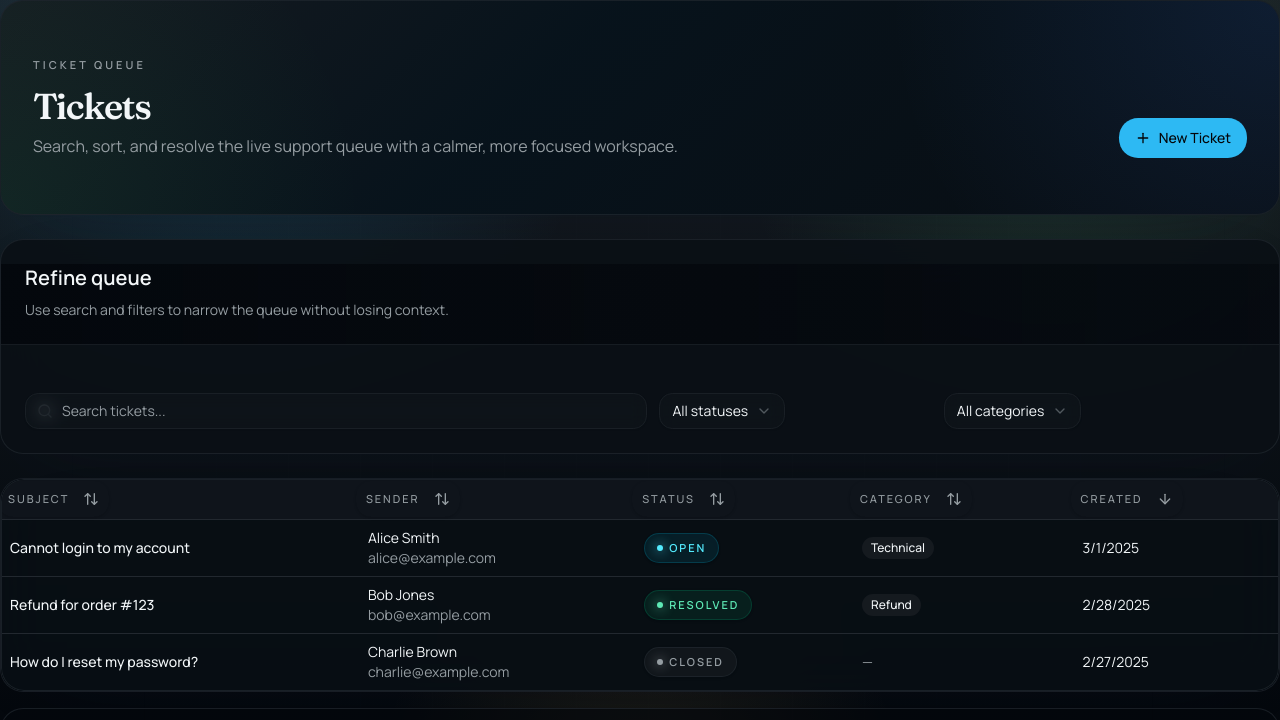
Scenario: TicketsPage › should create a ticket from the dialog
Click the button "New Ticket" at (1183, 138), box [1119, 118, 1247, 158]
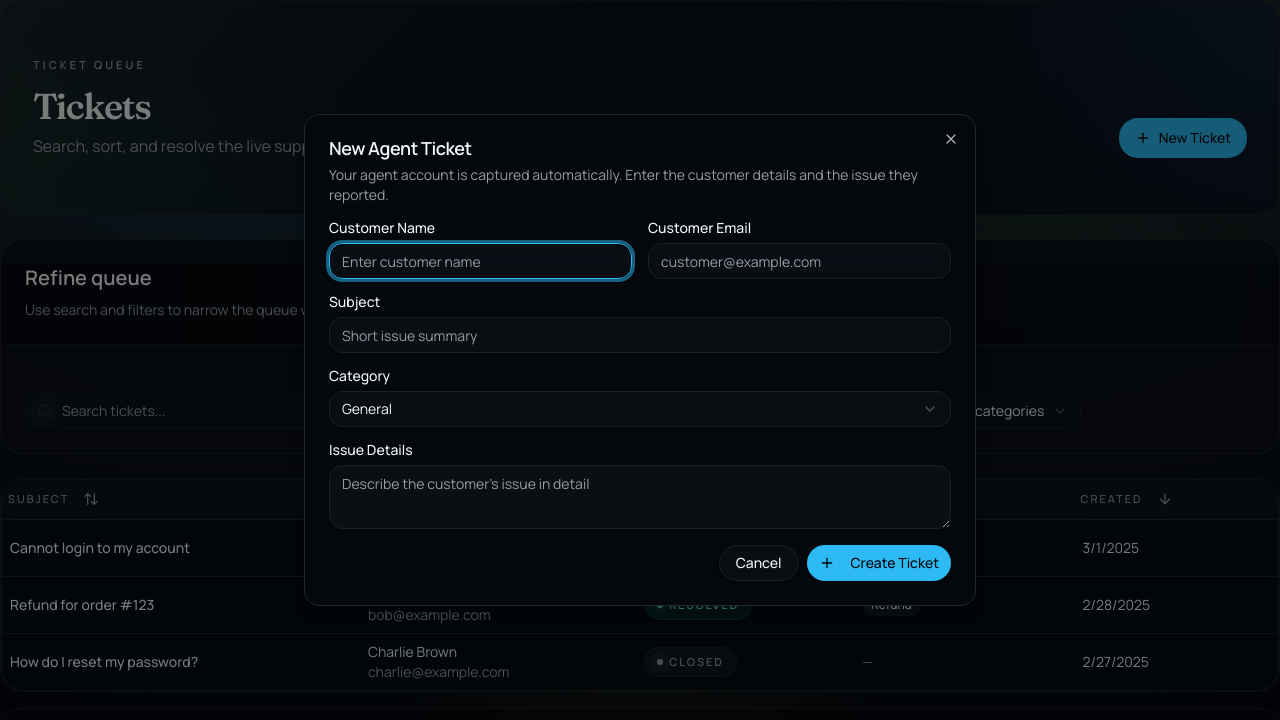
Type "Jane Doe" into the field labelled "Customer Name" at (480, 261), box [329, 243, 632, 279]
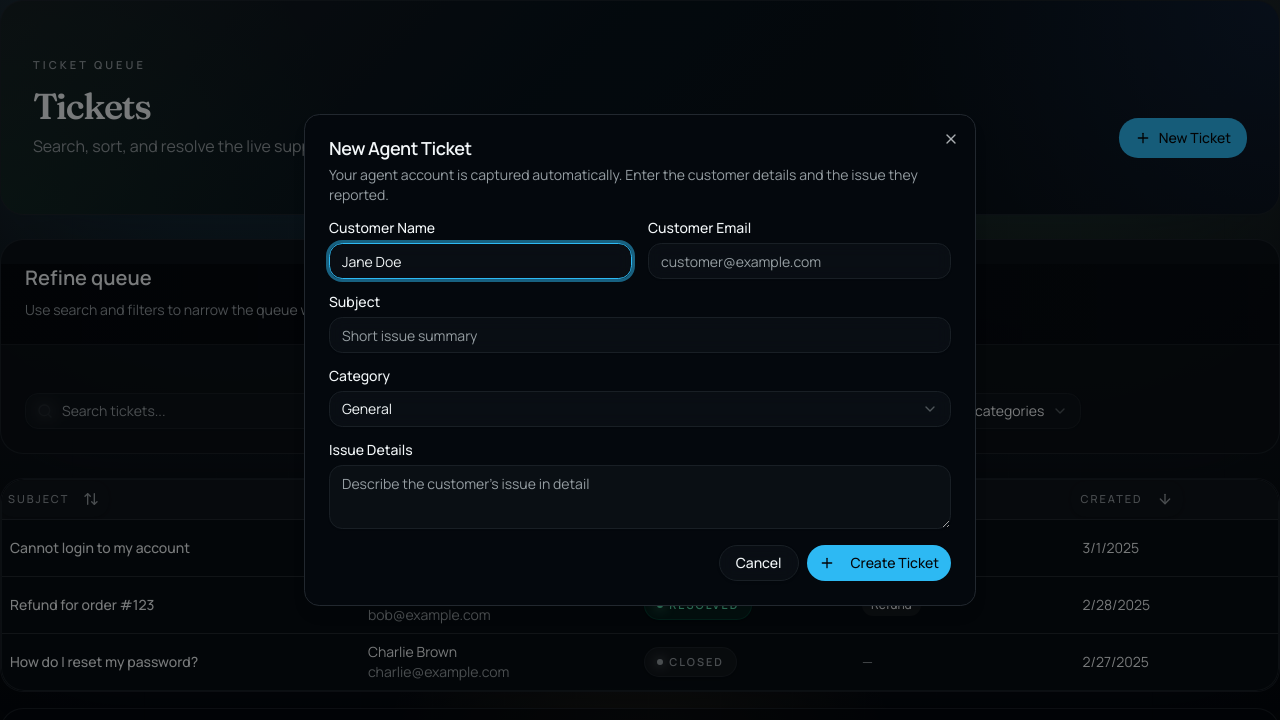
Type "jane@example.com" into the field labelled "Customer Email" at (800, 261), box [648, 243, 951, 279]
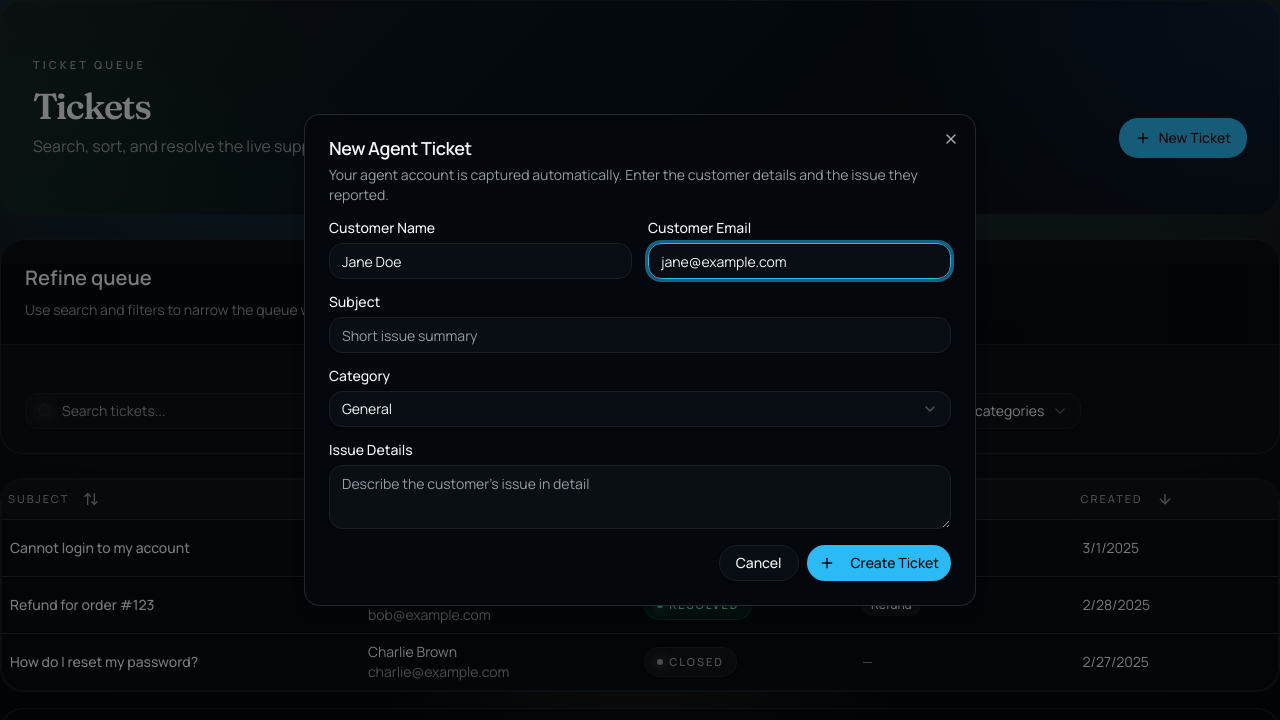
Type "Printer issue" into the field labelled "Subject" at (640, 335), box [329, 317, 951, 353]
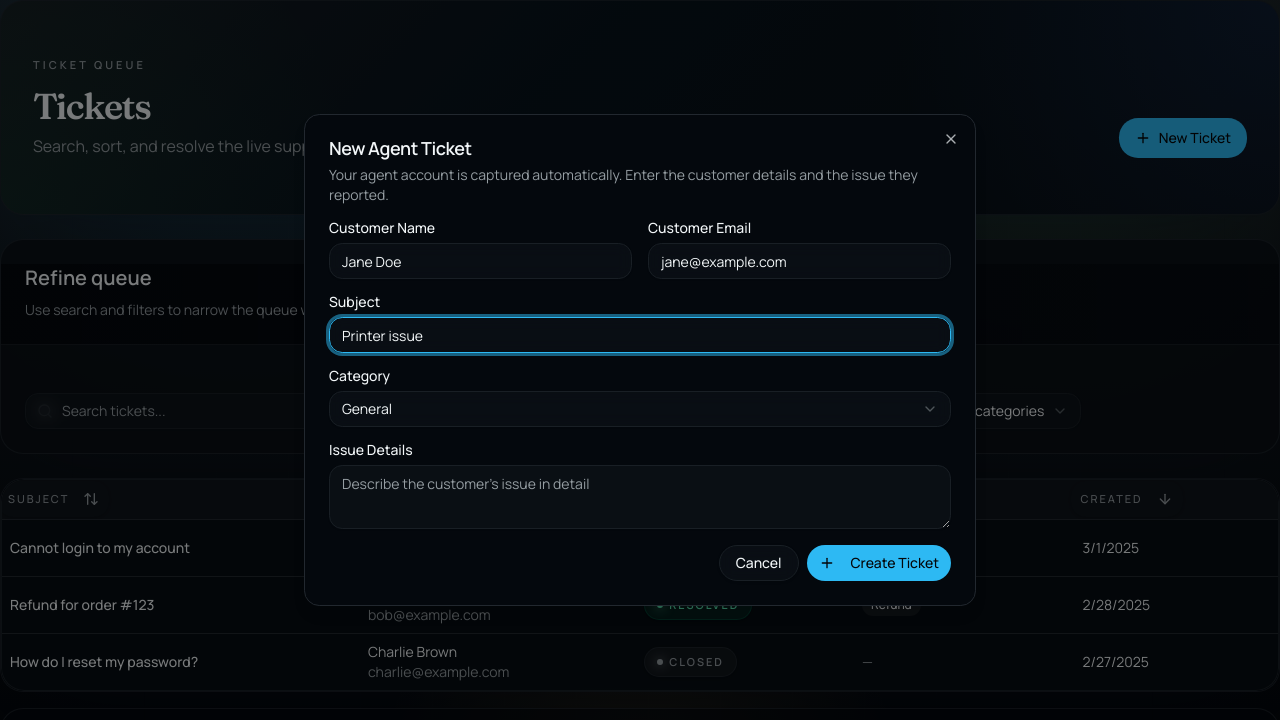
Type "The printer is jammed." into the text box labelled "Issue Details" at (640, 497), box [329, 465, 951, 529]
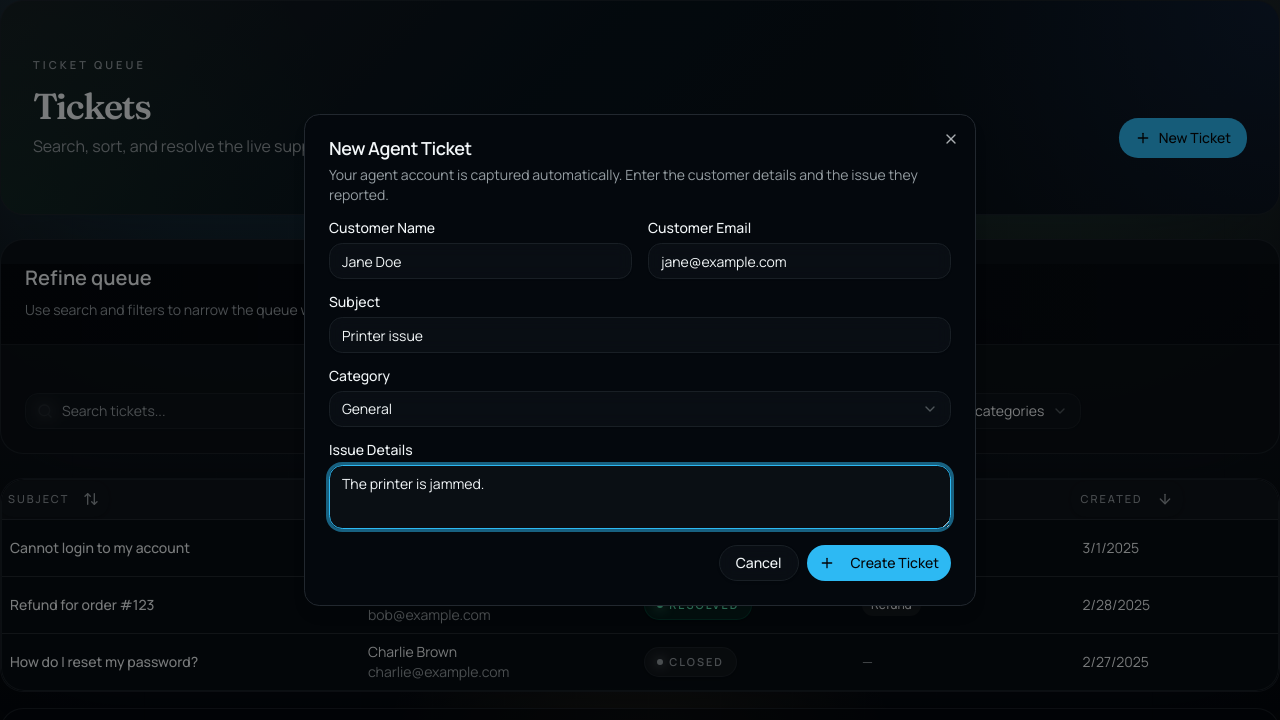
Click the button "Create Ticket" at (879, 563), box [806, 545, 951, 581]
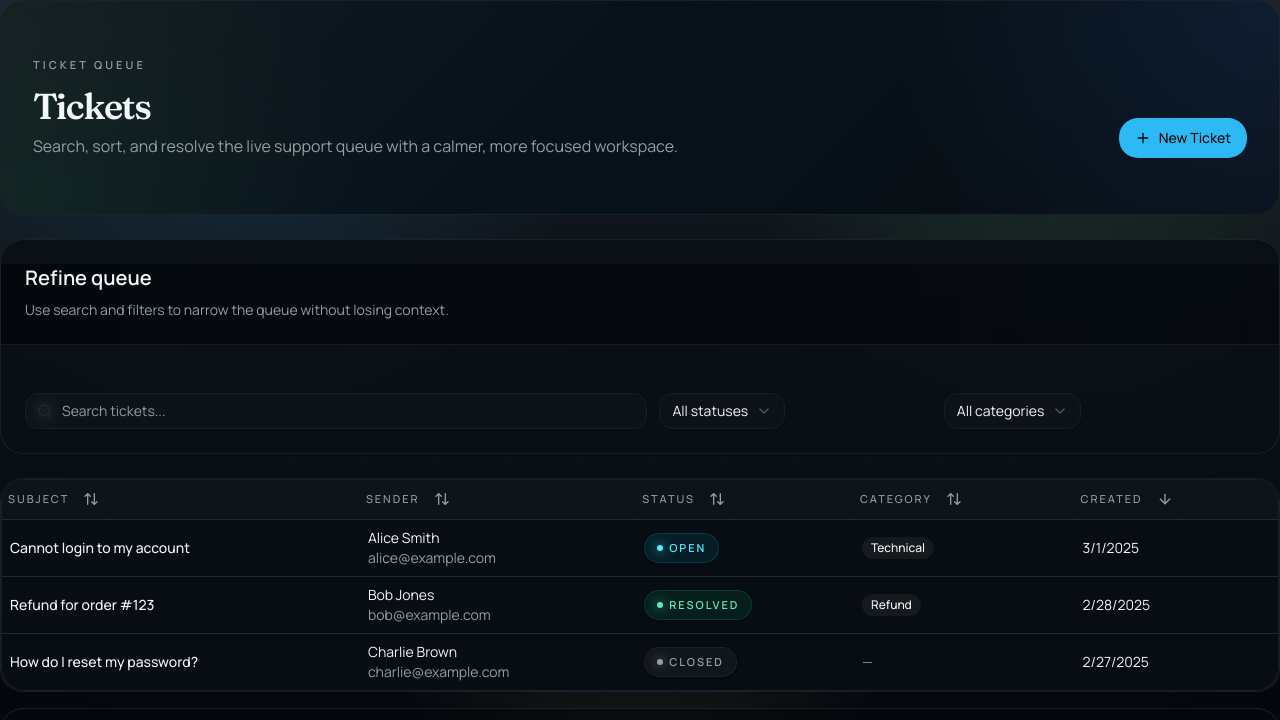
Expected: the dialog is gone
